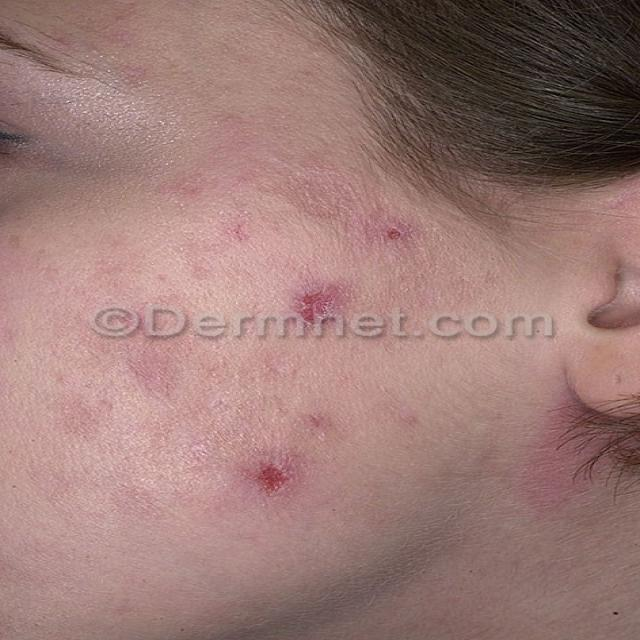acne: (214, 432, 354, 516), (262, 268, 384, 340), (336, 203, 420, 257)
